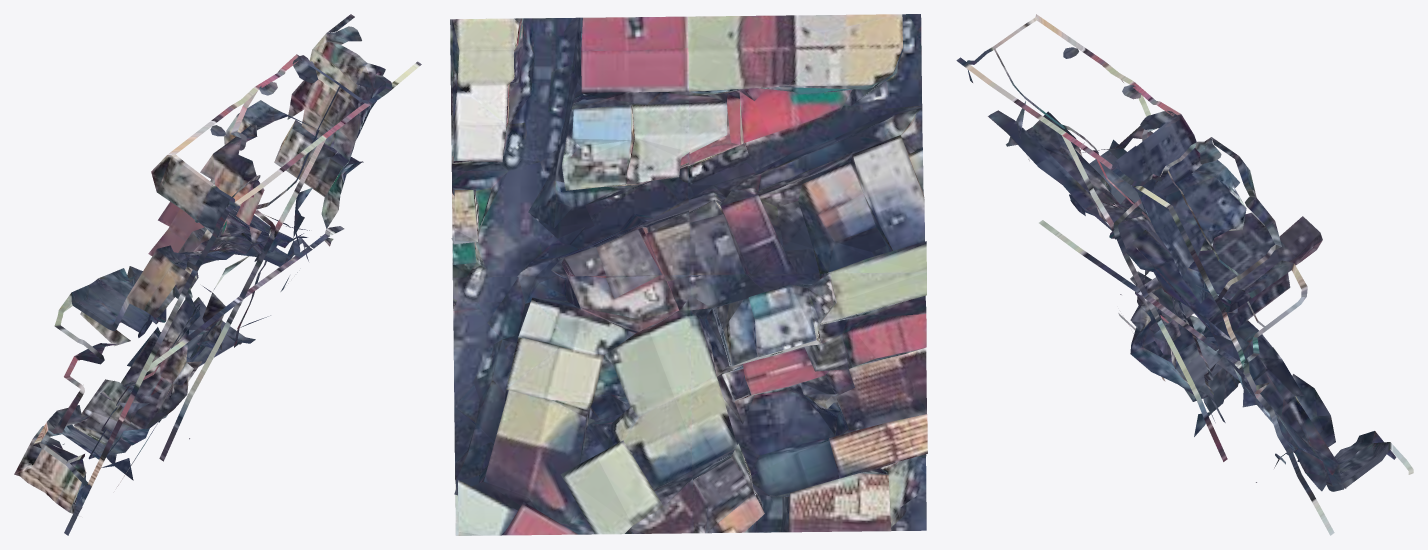
3 views of the same model, side by side, from view 1: azimuth 30°, elevation 25°; view 2: azimuth 150°, elevation 25°; view 3: azimuth 270°, elevation 25° (orthographic). The views are drawn at different scales.
Size of the model in its own units: 79.57 by 75.89 by 77.52.
Materials: 1 (1 with a texture image).
